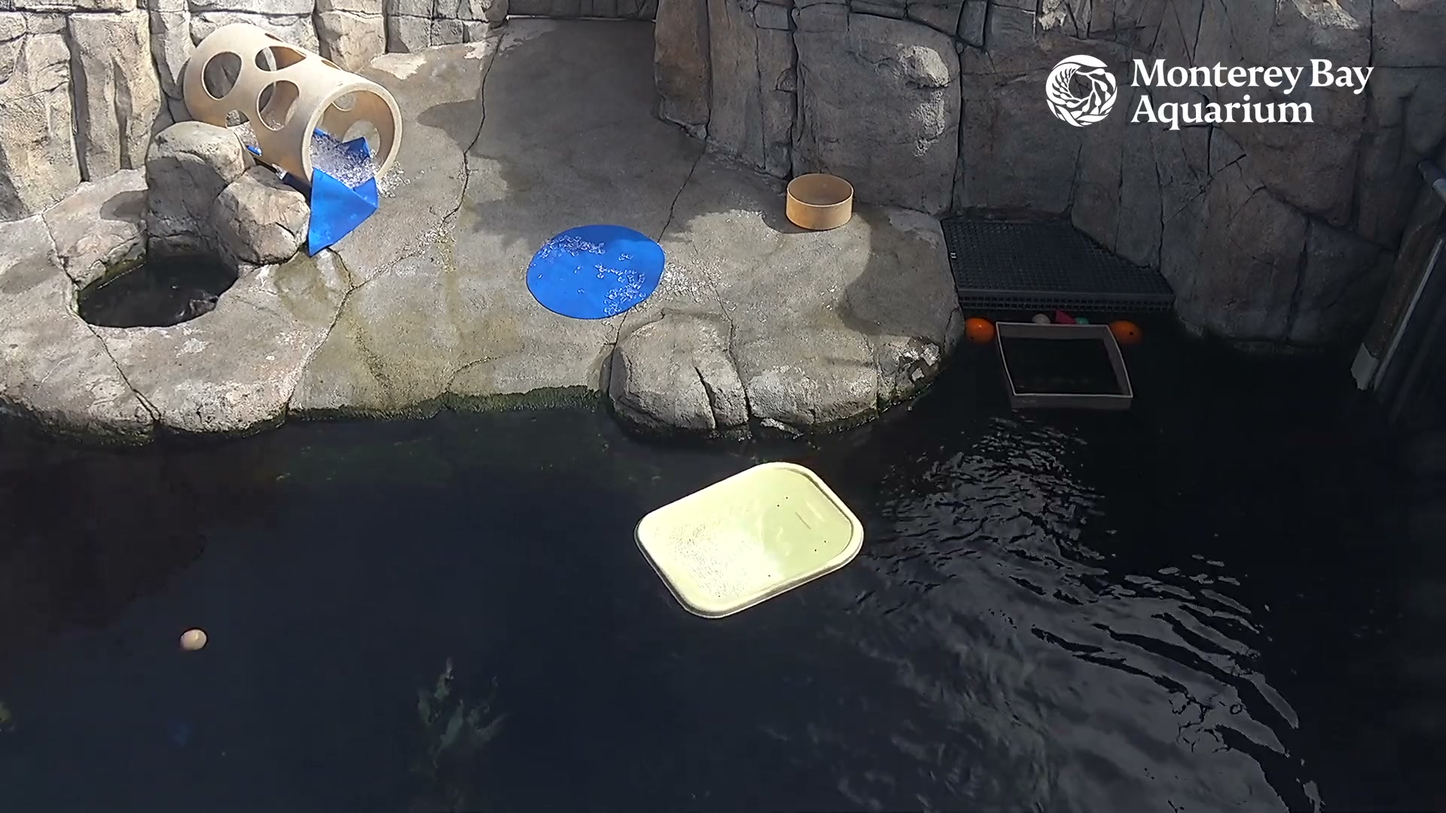Southern Sea Otter: (147, 275, 230, 325)
